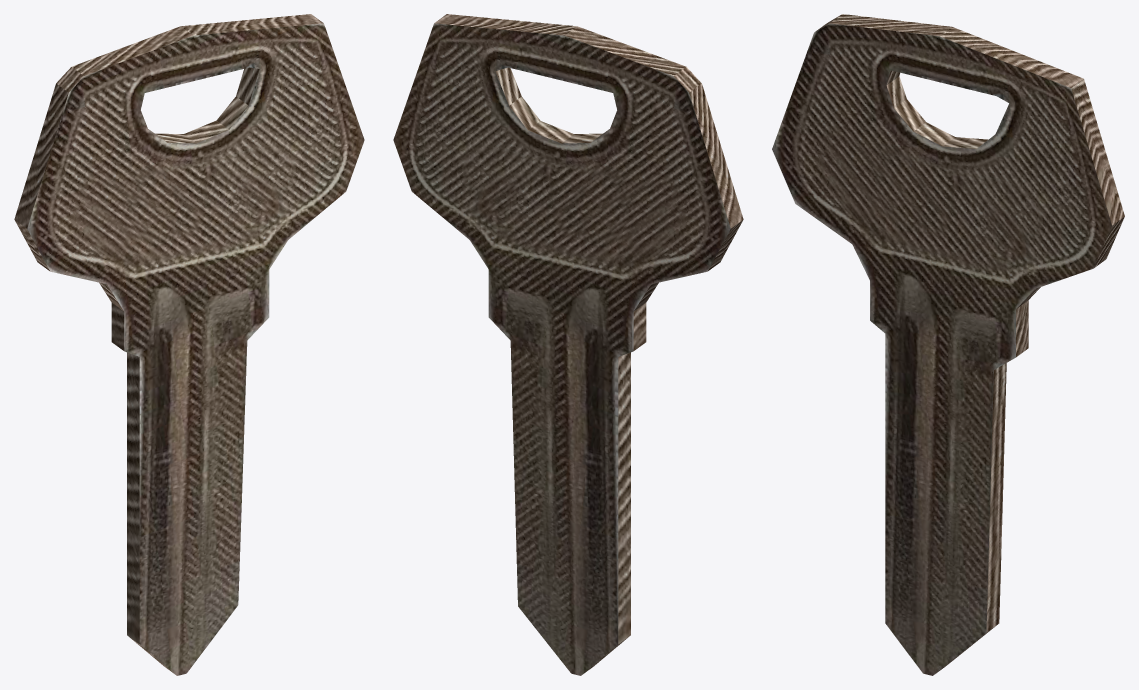
File: key.glb
The picture shows the model from 3 angles, left to right: view 1: azimuth 30°, elevation 25°; view 2: azimuth 150°, elevation 25°; view 3: azimuth 330°, elevation 25°; orthographic projection.
Visible parts, largest first — view 1: Plane; view 2: Plane; view 3: Plane.
Part boxes in pixels (left/top/right/bottom): Plane: left=14, top=14, right=364, bottom=675; Plane: left=393, top=14, right=743, bottom=675; Plane: left=772, top=14, right=1124, bottom=675.
Bounding box in the file's own units: 0.0365 × 0.0658 × 0.00268.
Materials: 1 (1 with a texture image).
